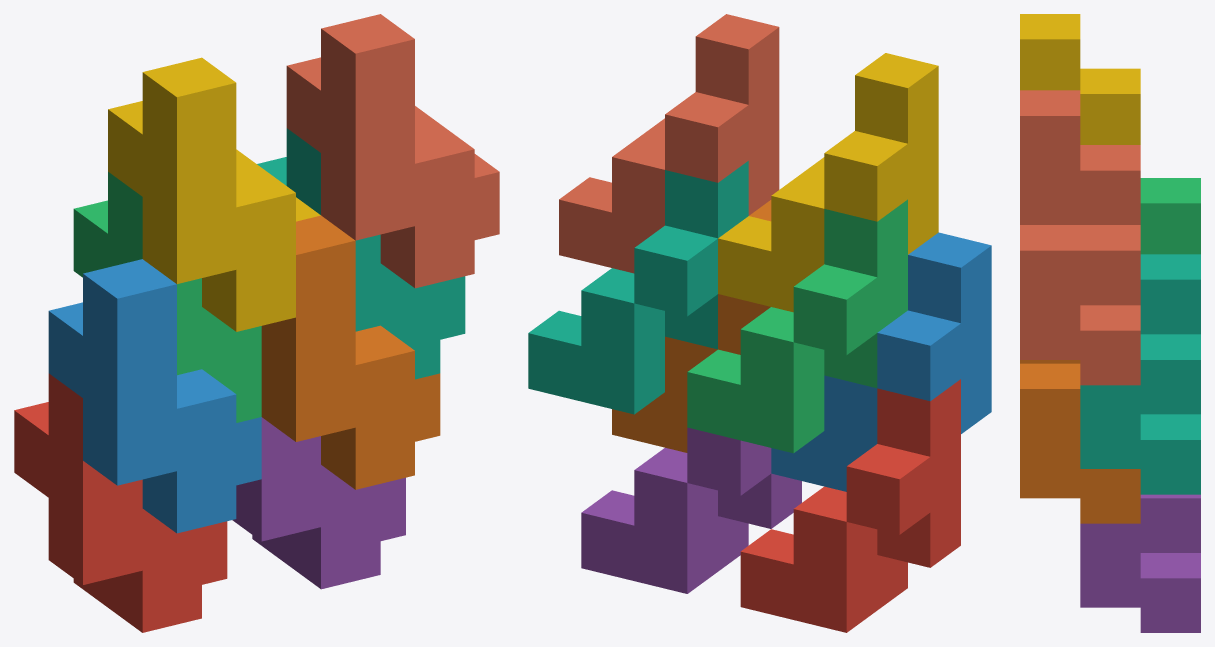
The model's file is tiling.obj.
The picture shows the model from 3 angles, left to right: view 1: azimuth 30°, elevation 25°; view 2: azimuth 150°, elevation 25°; view 3: azimuth 270°, elevation 25°; orthographic projection. The views are drawn at different scales.
Visible parts, largest first — view 1: copy_1_domain_8, copy_1_domain_2, copy_1_domain_4, copy_1_domain_6, copy_1_domain_1, copy_1_domain_5, copy_1_domain_3, copy_1_domain_7; view 2: copy_1_domain_1, copy_1_domain_3, copy_1_domain_7, copy_1_domain_8, copy_1_domain_4, copy_1_domain_5, copy_1_domain_2, copy_1_domain_6; view 3: copy_1_domain_8, copy_1_domain_7, copy_1_domain_5, copy_1_domain_6, copy_1_domain_4, copy_1_domain_3.
Boxes of the visible parts, x1=… form: copy_1_domain_8: x1=286, y1=14, x2=499, y2=288; copy_1_domain_2: x1=48, y1=259, x2=261, y2=533; copy_1_domain_4: x1=108, y1=57, x2=320, y2=331; copy_1_domain_6: x1=261, y1=215, x2=440, y2=489; copy_1_domain_1: x1=14, y1=373, x2=227, y2=632; copy_1_domain_5: x1=232, y1=417, x2=405, y2=589; copy_1_domain_3: x1=73, y1=172, x2=261, y2=422; copy_1_domain_7: x1=257, y1=128, x2=465, y2=379; copy_1_domain_1: x1=740, y1=379, x2=960, y2=632; copy_1_domain_3: x1=687, y1=199, x2=907, y2=453; copy_1_domain_7: x1=528, y1=161, x2=748, y2=414; copy_1_domain_8: x1=559, y1=14, x2=779, y2=273; copy_1_domain_4: x1=718, y1=53, x2=938, y2=312; copy_1_domain_5: x1=581, y1=427, x2=801, y2=593; copy_1_domain_2: x1=771, y1=232, x2=991, y2=491; copy_1_domain_6: x1=612, y1=200, x2=771, y2=452; copy_1_domain_8: x1=1020, y1=90, x2=1140, y2=385; copy_1_domain_7: x1=1080, y1=254, x2=1200, y2=494; copy_1_domain_5: x1=1080, y1=494, x2=1200, y2=632; copy_1_domain_6: x1=1020, y1=360, x2=1140, y2=523; copy_1_domain_4: x1=1020, y1=14, x2=1140, y2=144; copy_1_domain_3: x1=1140, y1=178, x2=1200, y2=254.
Size of the model in its own units: 7 by 9 by 3.
